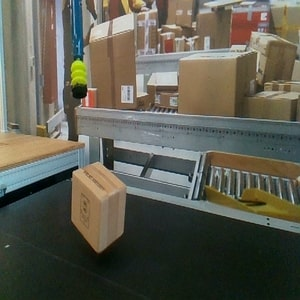box: (70, 161, 127, 254)
